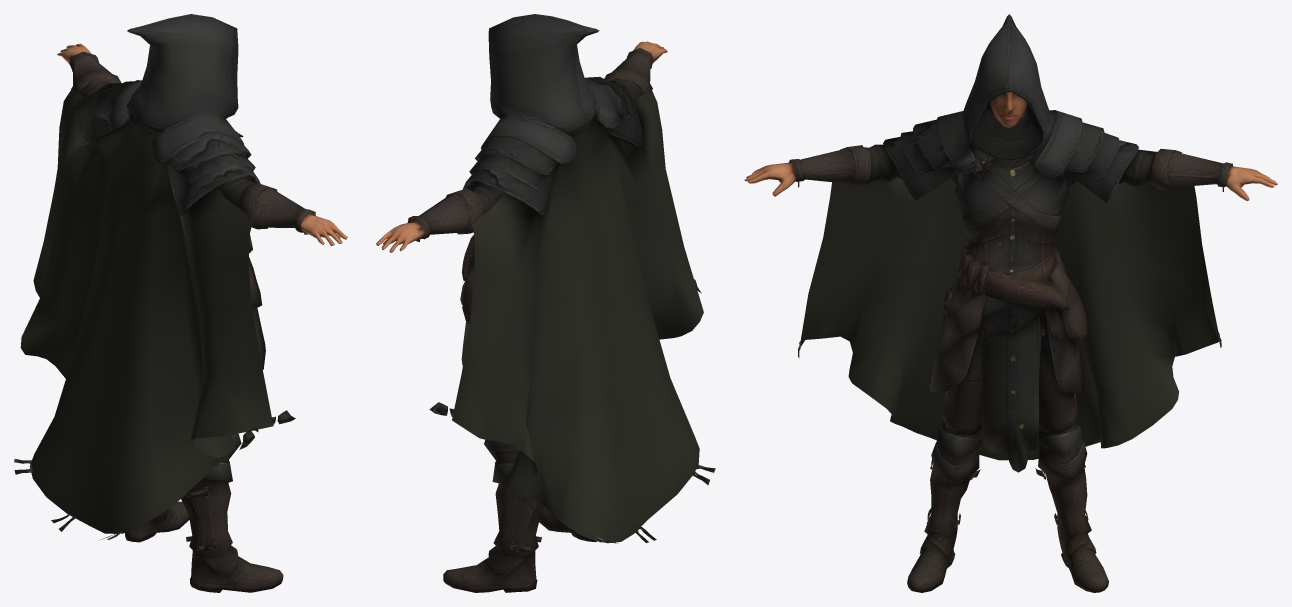
The model's file is hero-ranger-fantasy-new.glb.
3 views of the same model, side by side, from view 1: azimuth 30°, elevation 25°; view 2: azimuth 150°, elevation 25°; view 3: azimuth 270°, elevation 25° (orthographic). The views are drawn at different scales.
Parts seen in each view (by area): view 1: tripo_node_34101b15-96f1-45b2-bd01-59a7b16aa86b; view 2: tripo_node_34101b15-96f1-45b2-bd01-59a7b16aa86b; view 3: tripo_node_34101b15-96f1-45b2-bd01-59a7b16aa86b.
Part boxes in pixels (x1,y1,x2,y2): tripo_node_34101b15-96f1-45b2-bd01-59a7b16aa86b: (14, 14, 347, 592); tripo_node_34101b15-96f1-45b2-bd01-59a7b16aa86b: (376, 14, 715, 592); tripo_node_34101b15-96f1-45b2-bd01-59a7b16aa86b: (744, 14, 1277, 592).
Size of the model in its own units: 0.3652 by 0.998 by 0.9082.
Materials: 1 (1 with a texture image).
